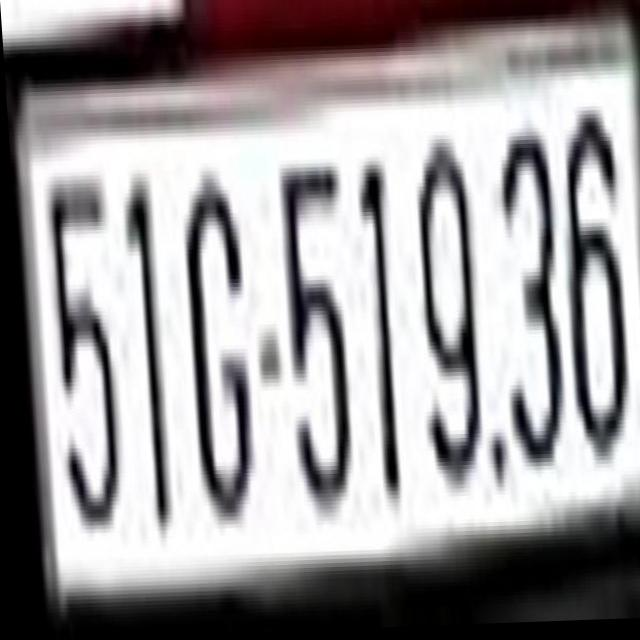1: (112, 159, 175, 544), (351, 144, 399, 537)
3: (487, 104, 563, 502)
5: (41, 160, 122, 550), (272, 134, 352, 524)
6: (549, 94, 632, 469)
9: (404, 119, 484, 515)
G: (173, 148, 253, 538)
